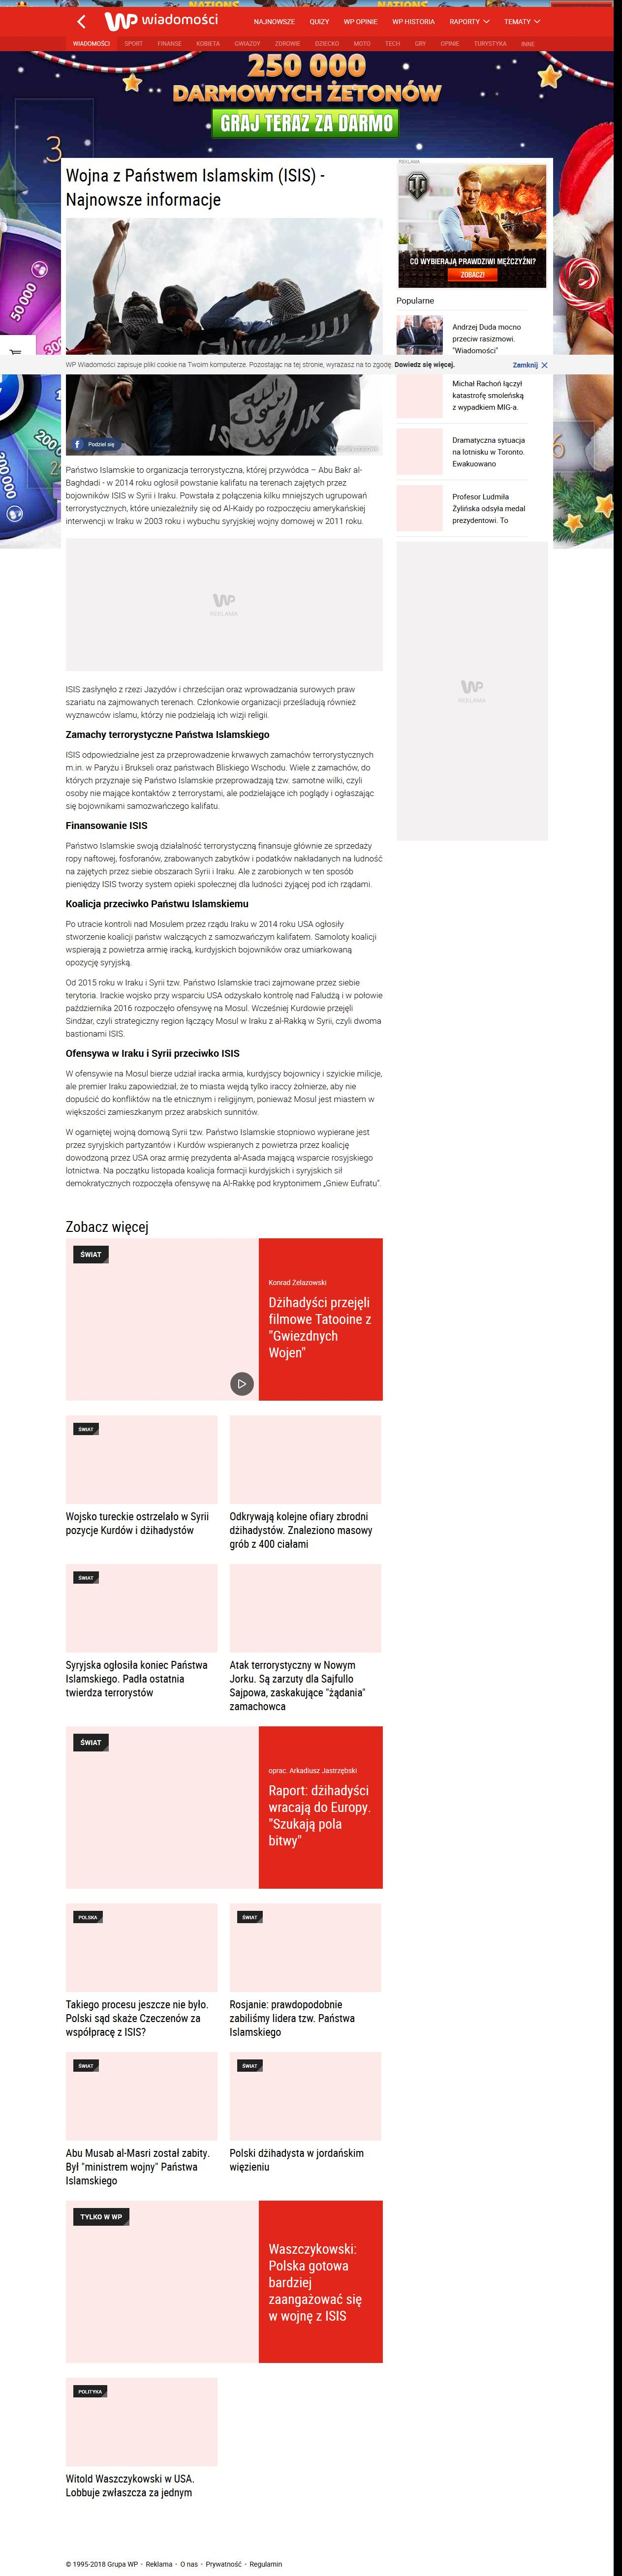title: (66, 168, 327, 207)
